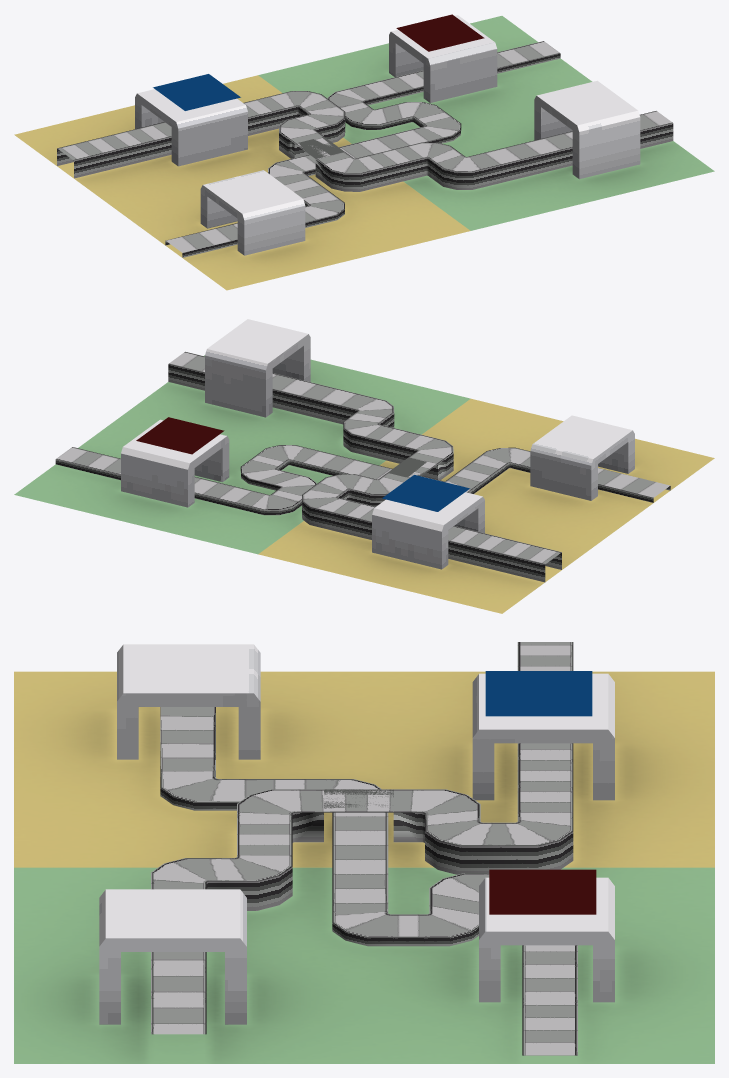
The model's file is nivel_jam01.fbx.
The picture shows the model from 3 angles, top to bottom: view 1: azimuth 30°, elevation 25°; view 2: azimuth 150°, elevation 25°; view 3: azimuth 270°, elevation 25°; orthographic projection. The views are drawn at different scales.
Parts seen in each view (by area): view 1: Game_Ground_P1, Game_Ground_P2, Path_P1, Path_P2, Exit_P2, Exit_P1, Scanner_P1, Scanner_P2, ScannerQuad_P1 (×2); view 2: Game_Ground_P1, Game_Ground_P2, Path_P1, Path_P2, Exit_P2, Exit_P1, Scanner_P1, Scanner_P2, ScannerQuad_P1 (×2); view 3: Game_Ground_P2, Game_Ground_P1, Path_P1, Path_P2, Exit_P2, Exit_P1, ScannerQuad_P1 (×2), Scanner_P1, Scanner_P2.
Part boxes in pixels (x1,y1,x2,y2): Game_Ground_P1: (14,75,470,290); Game_Ground_P2: (258,16,714,230); Path_P1: (57,91,673,191); Path_P2: (165,41,560,257); Exit_P2: (534,80,640,179); Exit_P1: (200,170,305,255); Scanner_P1: (135,89,247,166); Scanner_P2: (389,15,497,102); ScannerQuad_P1 (×2): (153,14,484,110); Game_Ground_P1: (258,398,714,613); Game_Ground_P2: (14,355,470,554); Path_P1: (168,351,561,582); Path_P2: (55,445,670,515); Exit_P2: (205,319,310,417); Exit_P1: (530,415,634,500); Scanner_P1: (372,492,484,569); Scanner_P2: (121,419,229,507); ScannerQuad_P1 (×2): (136,417,469,511); Game_Ground_P2: (14,867,714,1063); Game_Ground_P1: (14,671,714,867); Path_P1: (151,642,573,1034); Path_P2: (160,707,577,1055); Exit_P2: (99,889,246,1024); Exit_P1: (117,644,260,759); ScannerQuad_P1 (×2): (485,671,596,914); Scanner_P1: (472,673,614,800); Scanner_P2: (479,877,614,1002).
Size of the model in its own units: 2000 by 206 by 1510.
